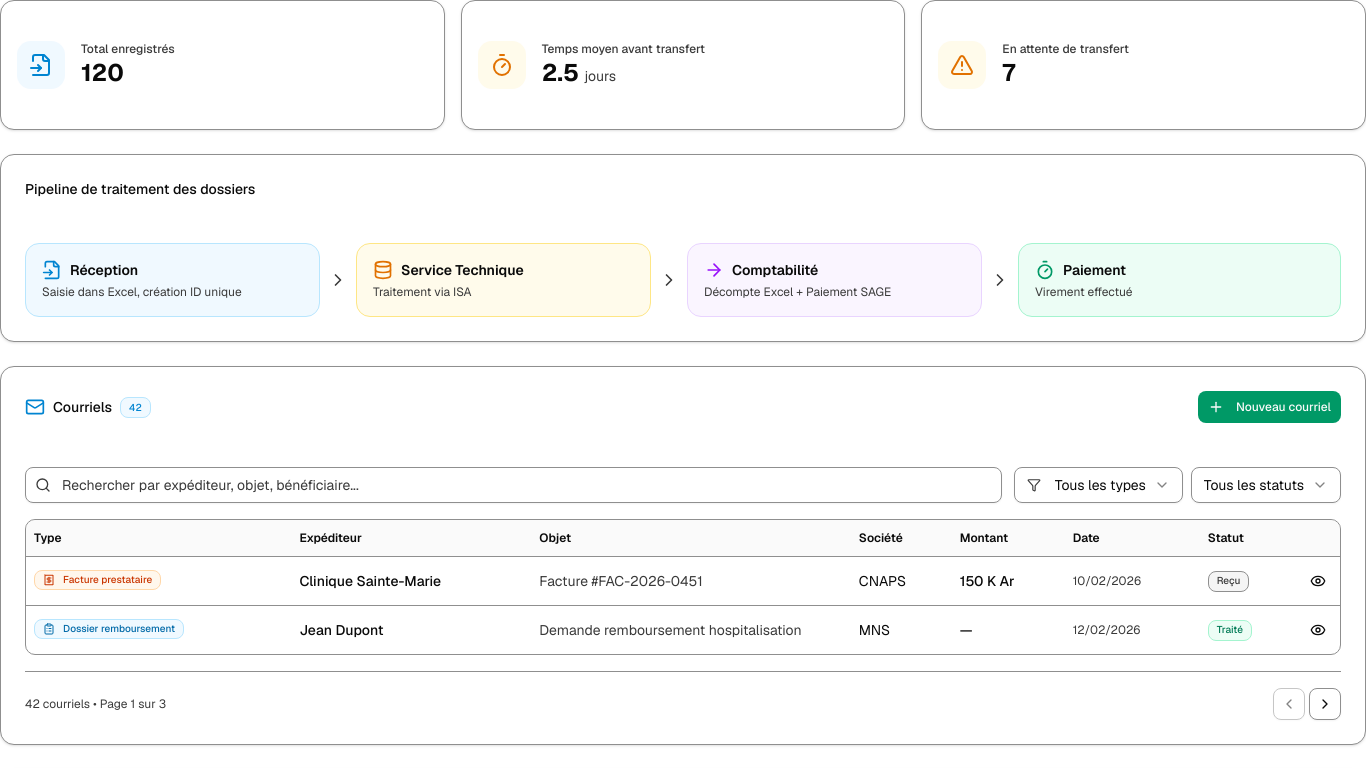
Test: Réception — création d'un courriel › ouvre le formulaire vide et bloque l'enregistrement sans expéditeur ni objet
Expected: the text "Clinique Sainte-Marie" is shown, [291,556,531,605]
Click the button "Nouveau courriel": point(1270, 407) [1198,391,1341,423]
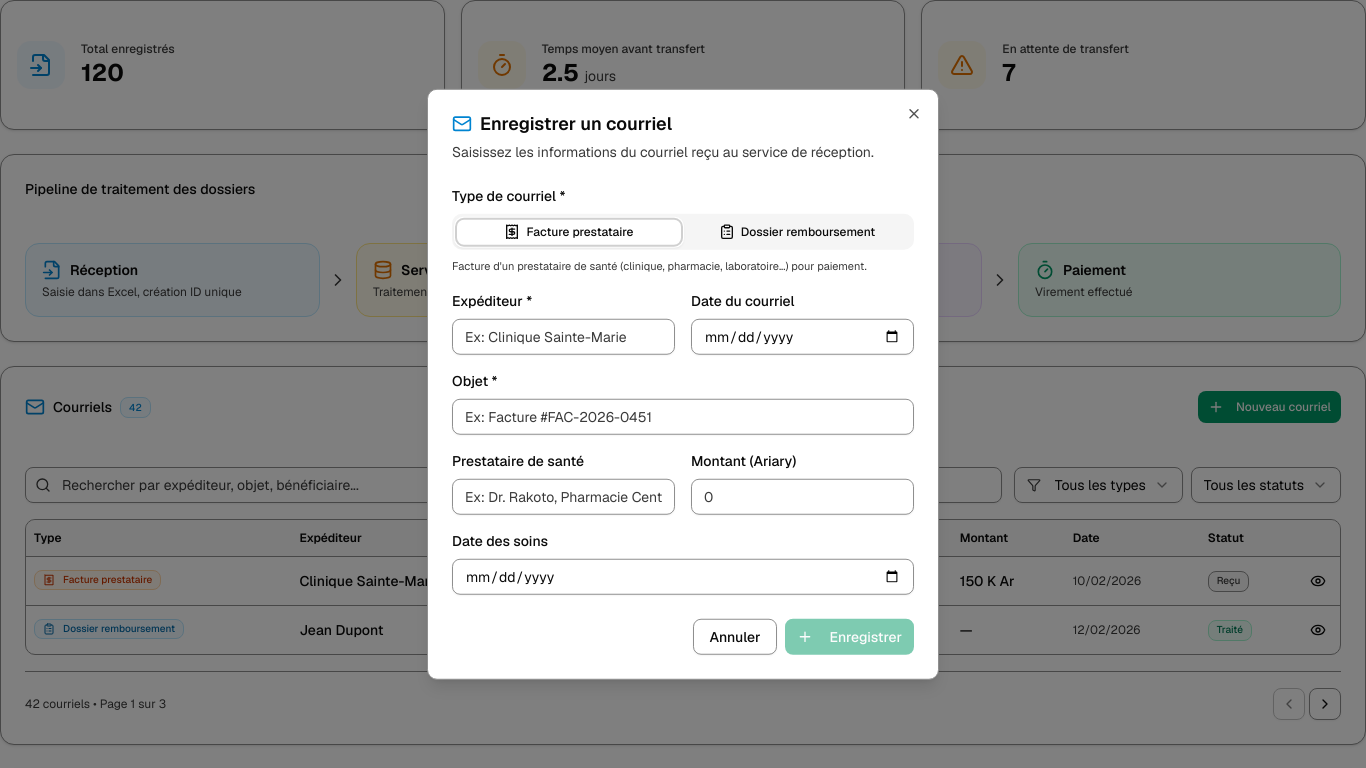
Expected: the heading "Enregistrer un courriel" is shown, [452,112,672,135]
Expected: the field with placeholder "Ex: Clinique Sainte-Marie" is empty, [452,318,675,354]
Expected: the field with placeholder "Ex: Facture #FAC-2026-0451" is empty, [452,398,914,434]
